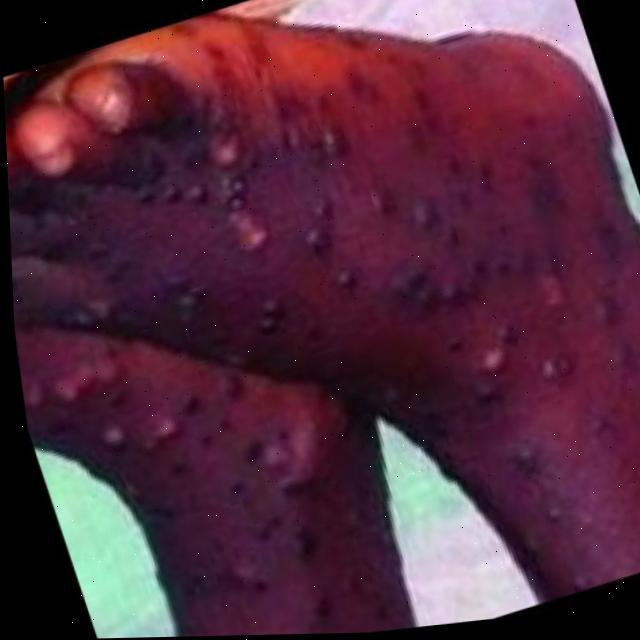Eczema: (3, 63, 640, 599), (15, 303, 405, 640)
